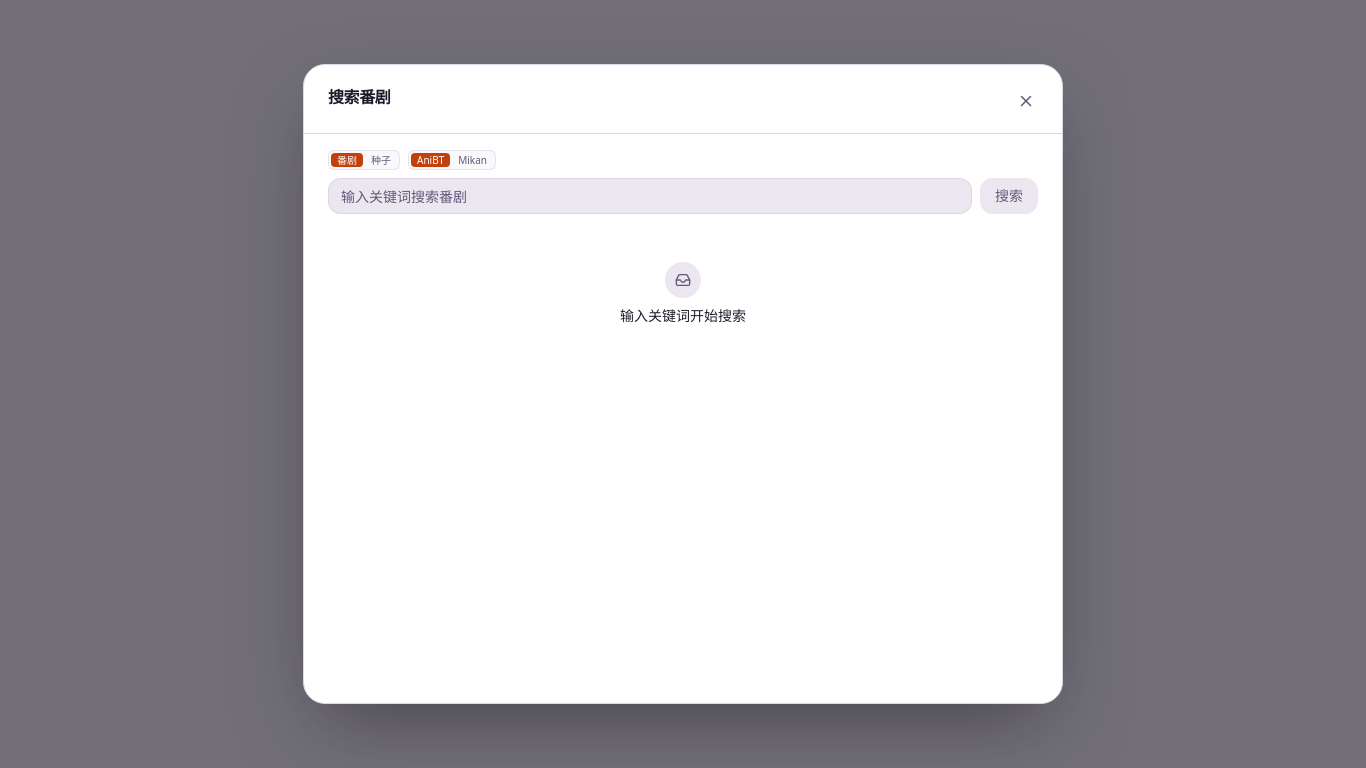
Scenario: GlobalSearchDialog（顶栏全局搜索） › 其他错误显示错误信息与重试；重试成功后恢复结果列表
Type "测试" into the field with placeholder "输入关键词搜索番剧" at (650, 196), box [328,178,972,214]
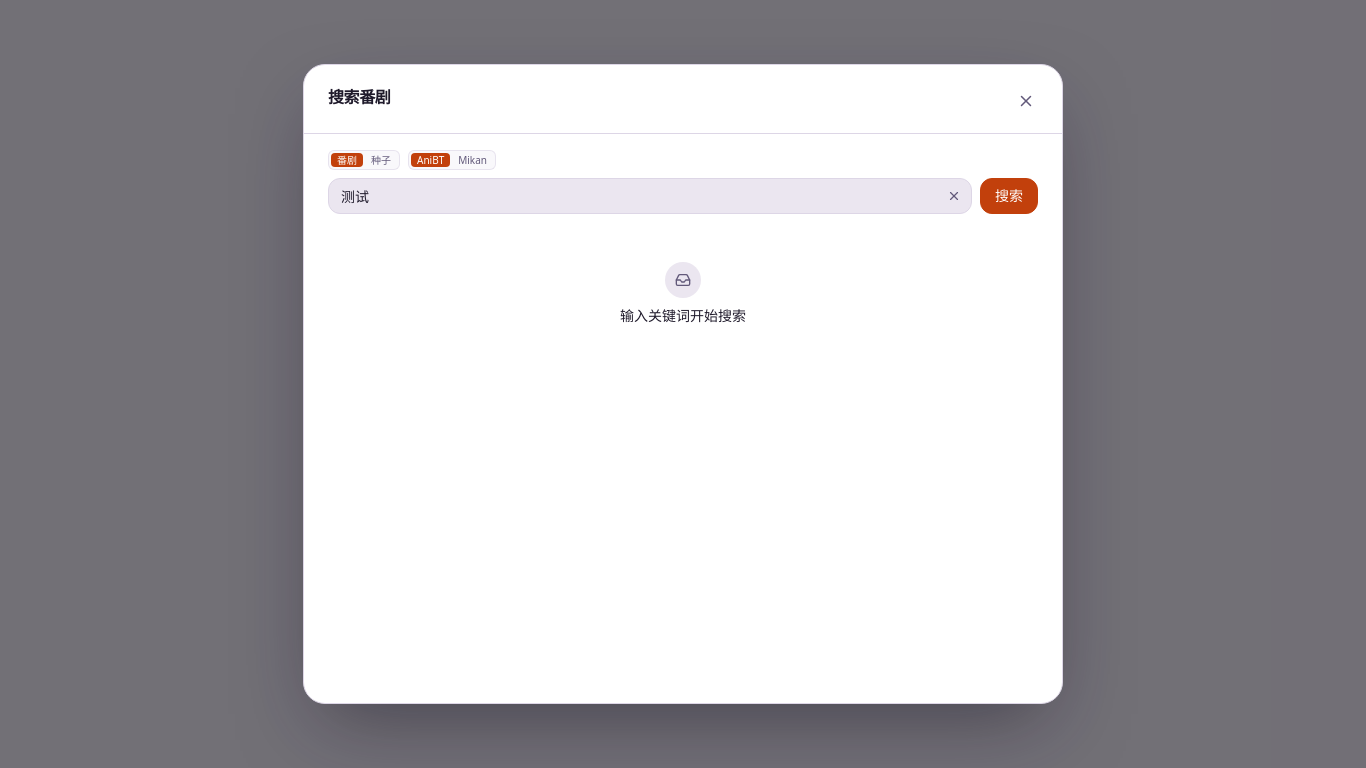
Submit the form with placeholder "输入关键词搜索番剧", box [328,178,1038,214]
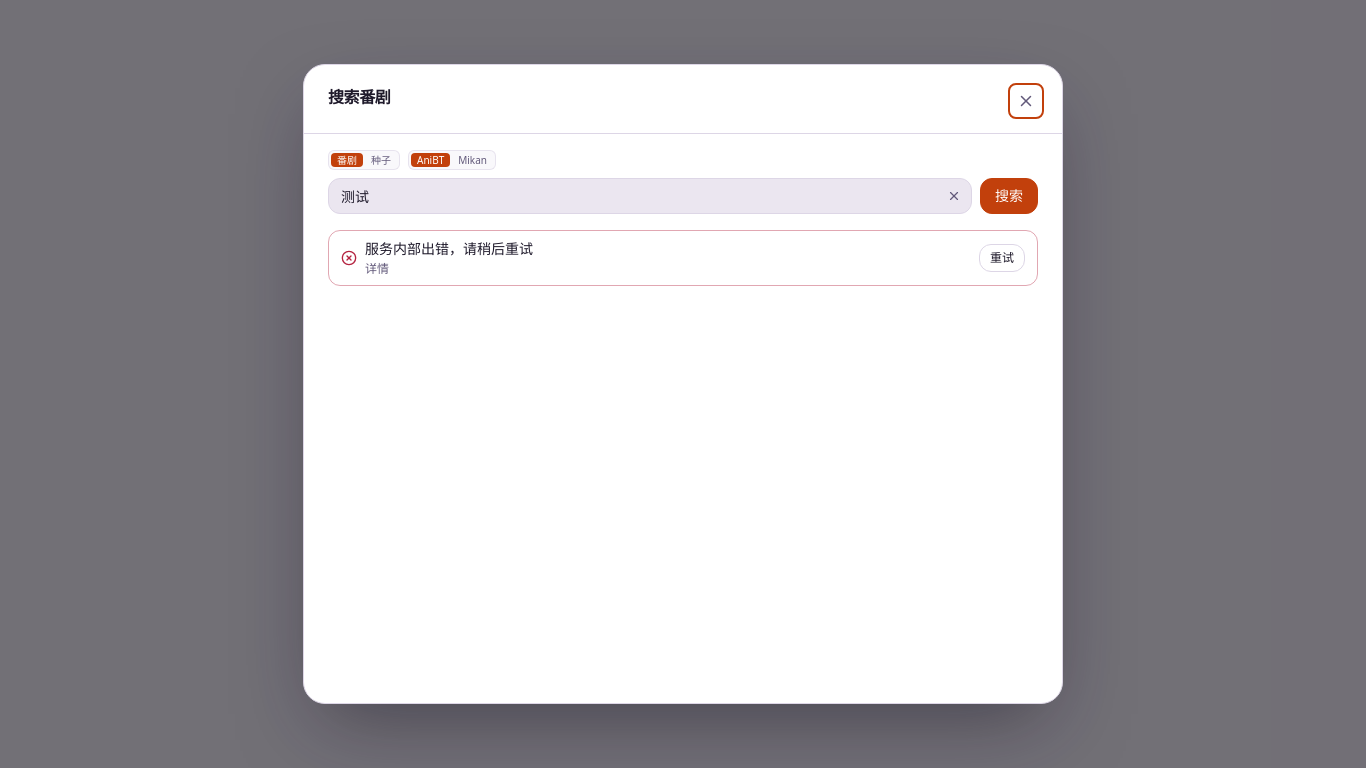
expect the message shows "服务内部出错，请稍后重试": met, box [365,239,533,258]
Click the button "重试" at (1002, 258), box [979,244,1025,272]
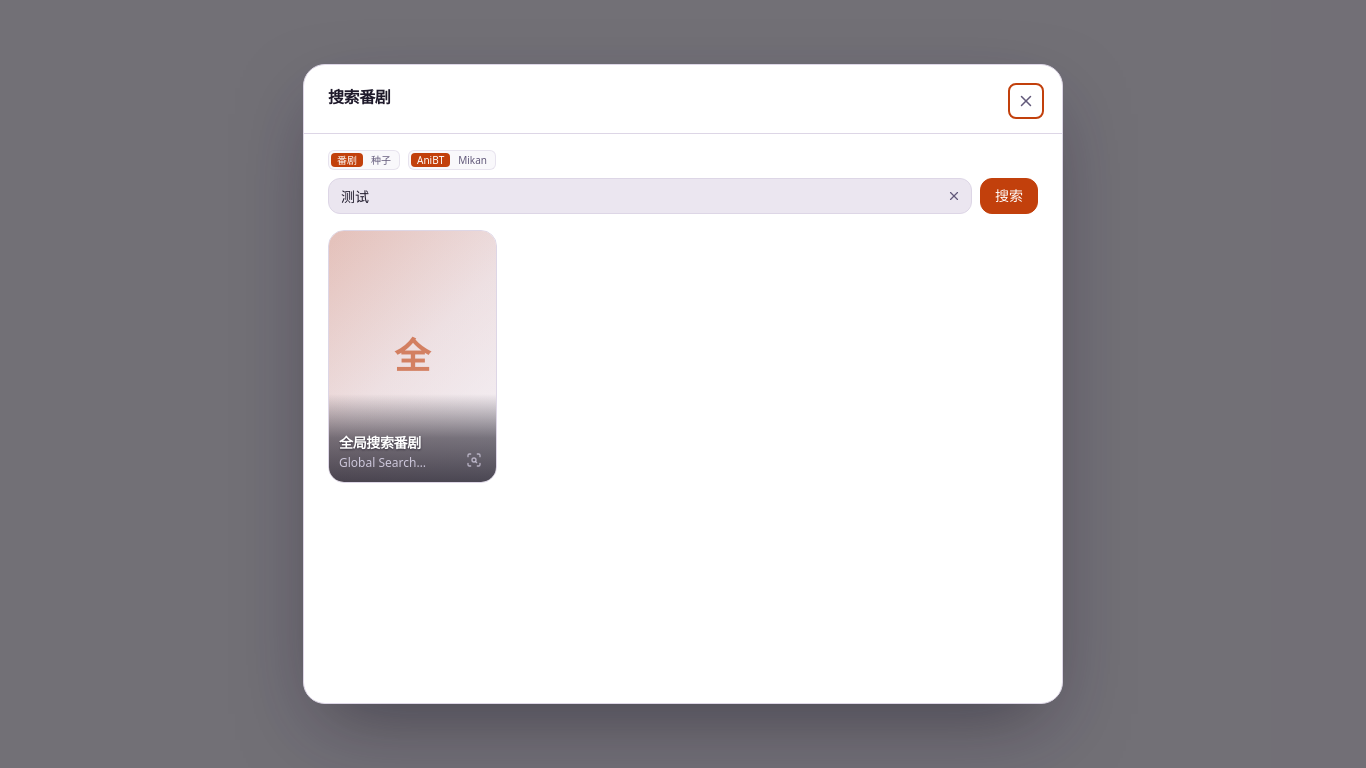
expect the heading "全局搜索番剧" is shown: met, box [339,432,421,452]
expect the message "服务内部出错，请稍后重试 详情 重试" is gone: met
